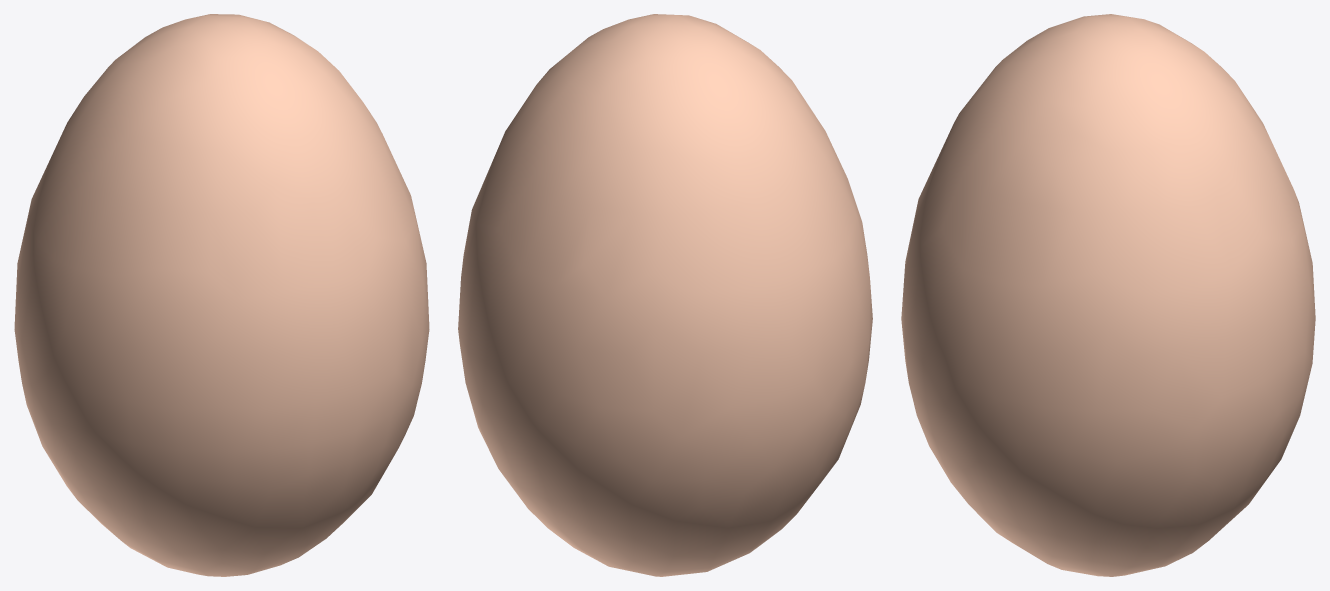
Rendered from Egg_20.obj.
3 views of the same model, side by side, from view 1: azimuth 30°, elevation 25°; view 2: azimuth 150°, elevation 25°; view 3: azimuth 270°, elevation 25° (orthographic).
Visible parts, largest first — view 1: egg_20; view 2: egg_20; view 3: egg_20.
Part boxes in pixels (x1,y1,x2,y2): egg_20: (14,14,429,576); egg_20: (458,14,872,576); egg_20: (901,14,1315,576).
Bounding box in the file's own units: 0.0797 × 0.1141 × 0.0797.
